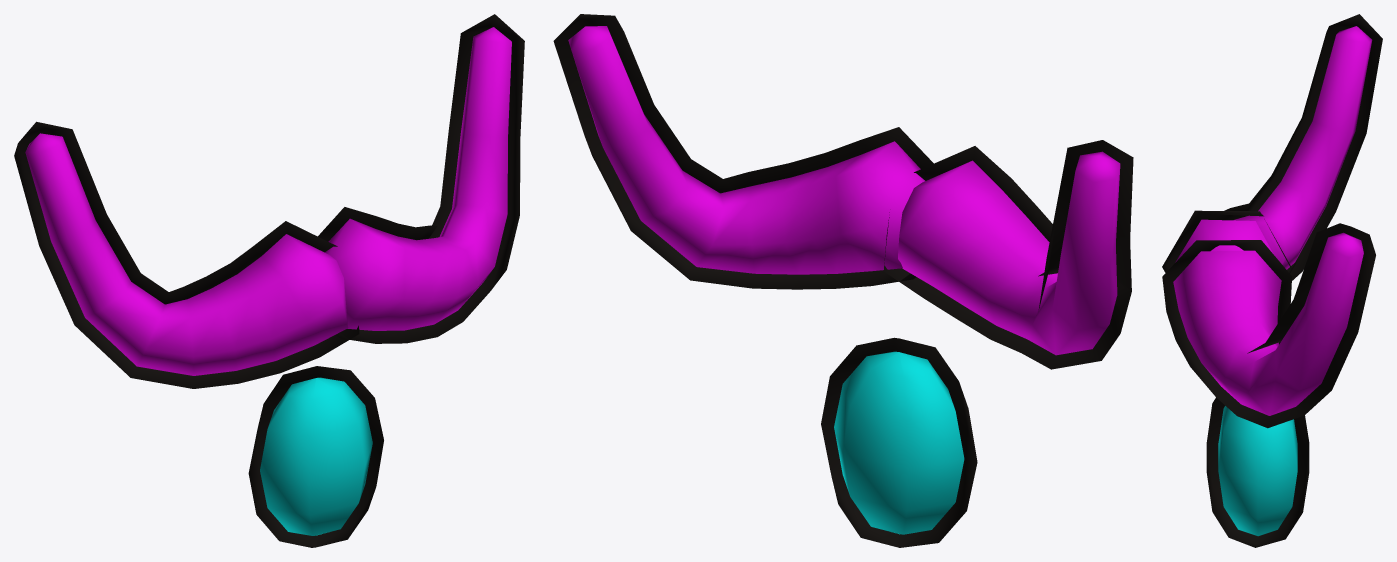
The model's file is beard_moustache_female_lo.glb.
3 renders of one model, left to right at view 1: azimuth 30°, elevation 25°; view 2: azimuth 150°, elevation 25°; view 3: azimuth 270°, elevation 25°, orthographic. The views are drawn at different scales.
Visible parts, largest first — view 1: beard_moustache_female_lo; view 2: beard_moustache_female_lo; view 3: beard_moustache_female_lo.
Boxes of the visible parts, <box> form: beard_moustache_female_lo: <box>14,14,524,547</box>; beard_moustache_female_lo: <box>553,14,1133,547</box>; beard_moustache_female_lo: <box>1162,14,1382,547</box>.
Bounding box in the file's own units: 0.2657 × 0.2245 × 0.106.
